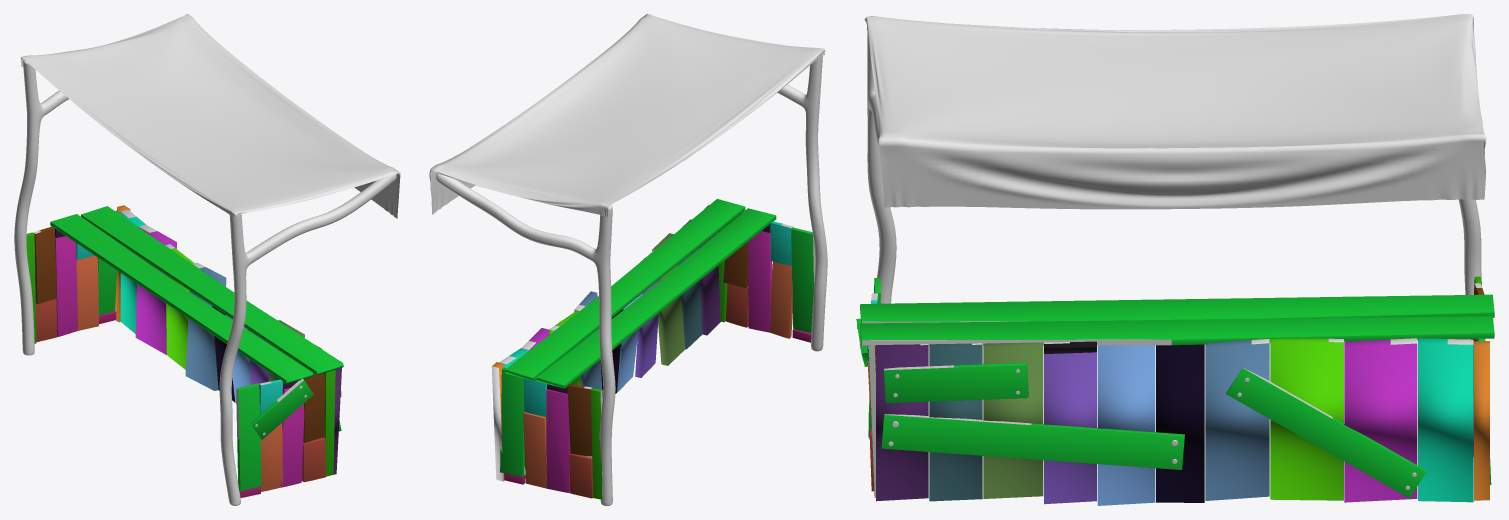
The model's file is uploads_files_950105_shop_1_2.fbx.
The picture shows the model from 3 angles, left to right: view 1: azimuth 30°, elevation 25°; view 2: azimuth 150°, elevation 25°; view 3: azimuth 270°, elevation 25°; orthographic projection. The views are drawn at different scales.
Parts seen in each view (by area): view 1: fabric, left_Board, Board, right_Board, top_board, top_Board, left_stick, right_stick, left_blackboard; view 2: fabric, right_Board, left_Board, Board, top_board, top_Board, right_stick, left_stick; view 3: fabric, Board, top_board, top_Board, blackboard.002, blackboard, blackboard.001, left_stick, right_stick, left_Board.
Boxes of the visible parts, left/top/right/bottom form: fabric: left=20, top=14, right=400, bottom=219; left_Board: left=236, top=370, right=335, bottom=497; Board: left=115, top=205, right=341, bottom=474; right_Board: left=26, top=210, right=119, bottom=343; top_board: left=81, top=206, right=343, bottom=375; top_Board: left=50, top=214, right=312, bottom=384; left_stick: left=219, top=169, right=396, bottom=505; right_stick: left=14, top=60, right=68, bottom=355; left_blackboard: left=250, top=378, right=313, bottom=439; fabric: left=429, top=14, right=825, bottom=216; right_Board: left=500, top=367, right=602, bottom=499; left_Board: left=718, top=214, right=815, bottom=342; Board: left=491, top=205, right=720, bottom=481; top_board: left=505, top=199, right=745, bottom=380; top_Board: left=536, top=208, right=776, bottom=388; right_stick: left=436, top=173, right=615, bottom=505; left_stick: left=645, top=16, right=827, bottom=351; fabric: left=864, top=14, right=1486, bottom=209; Board: left=876, top=338, right=1489, bottom=505; top_board: left=860, top=316, right=1494, bottom=345; top_Board: left=860, top=294, right=1494, bottom=323; blackboard.002: left=881, top=414, right=1184, bottom=469; blackboard: left=1226, top=368, right=1426, bottom=498; blackboard.001: left=884, top=362, right=1028, bottom=403; left_stick: left=867, top=33, right=896, bottom=438; right_stick: left=1458, top=116, right=1482, bottom=339; left_Board: left=867, top=278, right=880, bottom=497.
Bounding box in the file's own units: 192 × 303 × 416.
